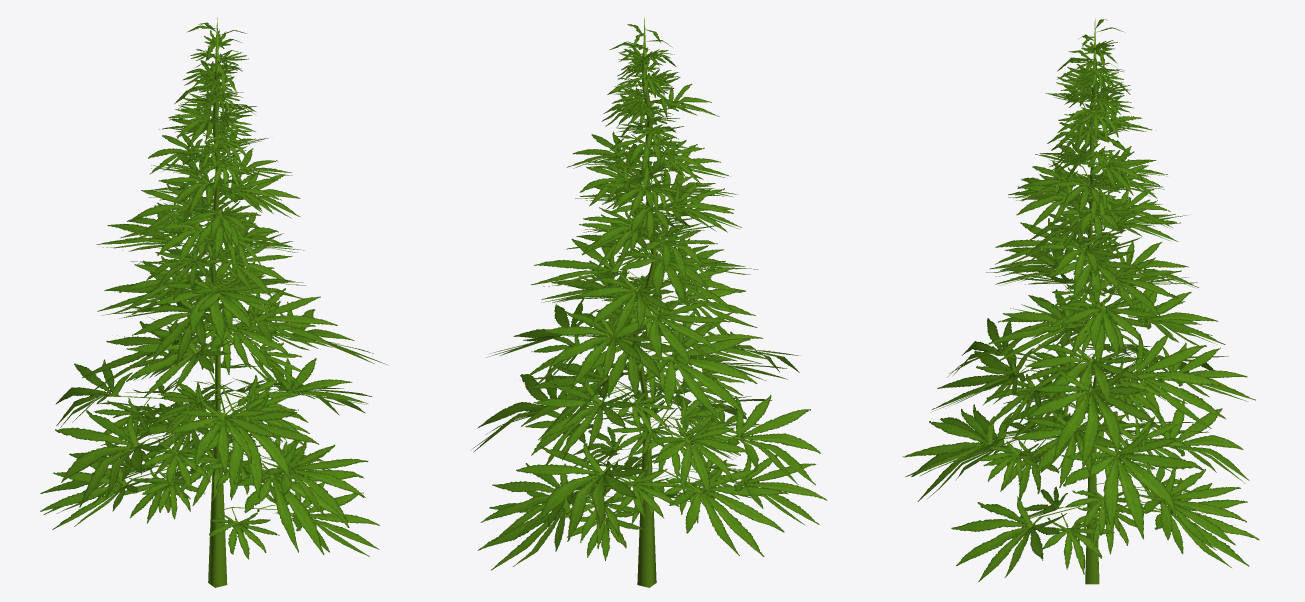
Rendered from kytka_mari_vysoka.glb.
The picture shows the model from 3 angles, left to right: view 1: azimuth 30°, elevation 25°; view 2: azimuth 150°, elevation 25°; view 3: azimuth 270°, elevation 25°; orthographic projection.
Visible parts, largest first — view 1: kytka_mari_vysoka_0; view 2: kytka_mari_vysoka_0; view 3: kytka_mari_vysoka_0.
Part boxes in pixels (x1,y1,x2,y2): kytka_mari_vysoka_0: (40,17,388,587); kytka_mari_vysoka_0: (470,17,827,587); kytka_mari_vysoka_0: (902,19,1259,584).
Size of the model in its own units: 0.658 by 1 by 0.6474.
Materials: 1 (1 with a texture image).
